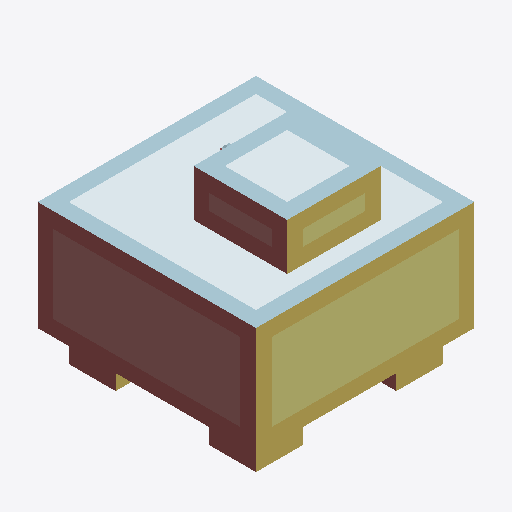
A Minecraft block model of 12 cuboids, rendered isometrically (azimuth 45°, elevation 35.3°) with the resource pack's own textures.
Visible parts, largest first — element 5, element 6, element 4, element 1, element 3.
Part boxes in pixels (x1,y1,x2,y2): element 5: (38,76,473,453); element 6: (194,112,380,273); element 4: (209,427,302,471); element 1: (69,346,129,390); element 3: (382,346,442,390).
Size of the model in its own units: 14 by 12 by 14.